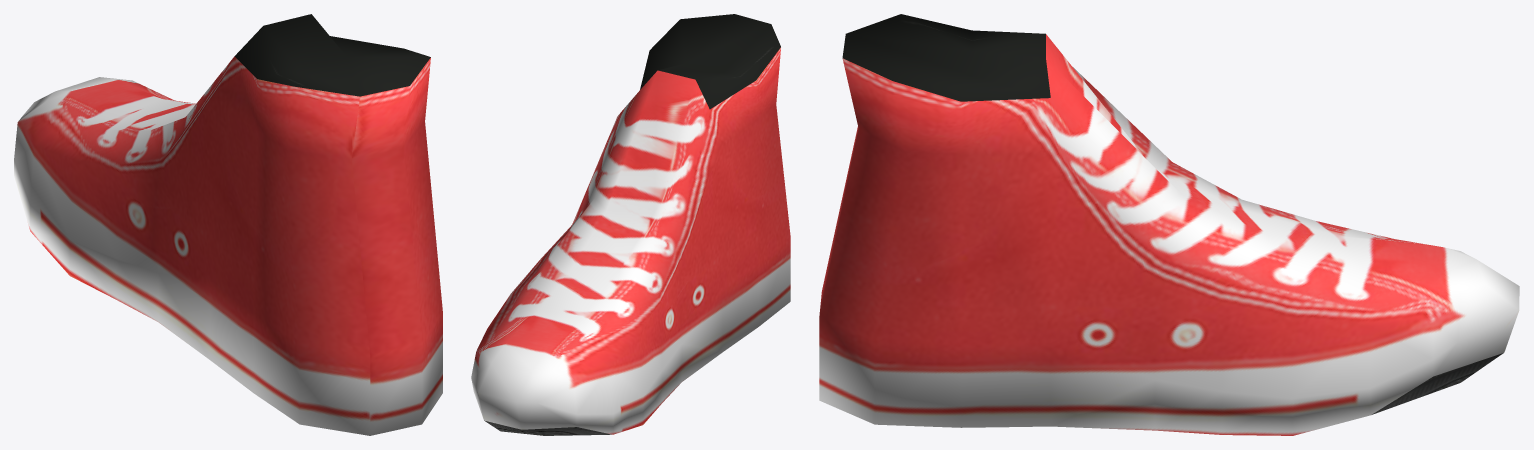
File: redSneakers_R.fbx
3 views of the same model, side by side, from view 1: azimuth 30°, elevation 25°; view 2: azimuth 150°, elevation 25°; view 3: azimuth 270°, elevation 25° (orthographic). The views are drawn at different scales.
Visible parts, largest first — view 1: shoe02_r; view 2: shoe02_r; view 3: shoe02_r.
Part boxes in pixels (x1,y1,x2,y2): shoe02_r: (14, 14, 442, 435); shoe02_r: (471, 14, 790, 435); shoe02_r: (819, 14, 1519, 435).
Bounding box in the file's own units: 0.1751 × 0.3001 × 0.557.
Materials: 1 (1 with a texture image).
